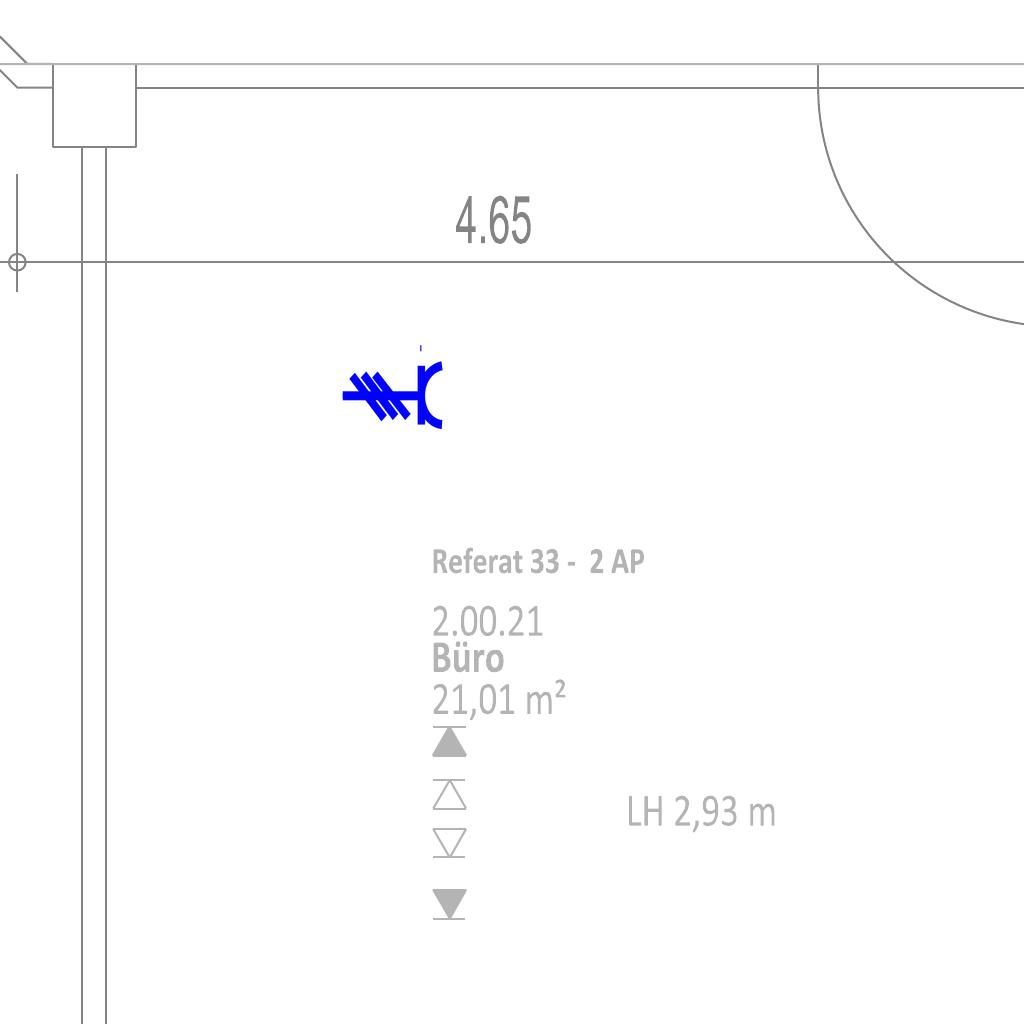CEE_Drehstrom_Steckdose_16_32_A: (341, 342, 445, 432)
